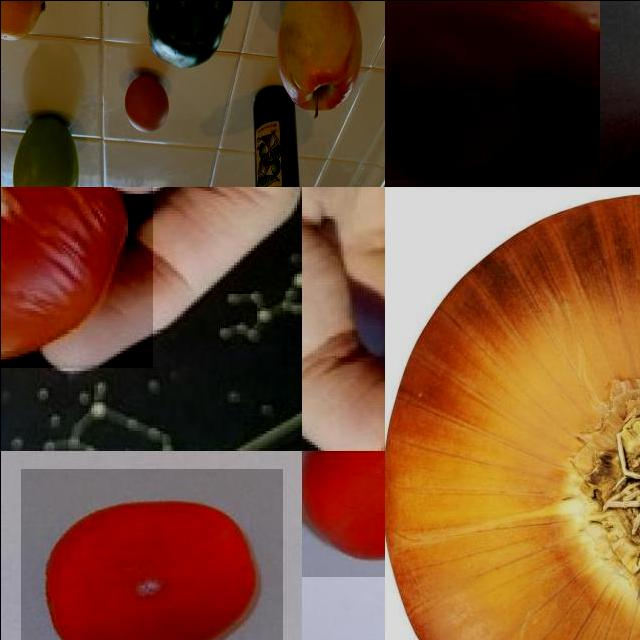bell_pepper: (134, 1, 248, 75)
egg: (120, 68, 174, 140)
onion: (385, 187, 640, 640)
tomato: (21, 469, 283, 640), (302, 451, 385, 577)
